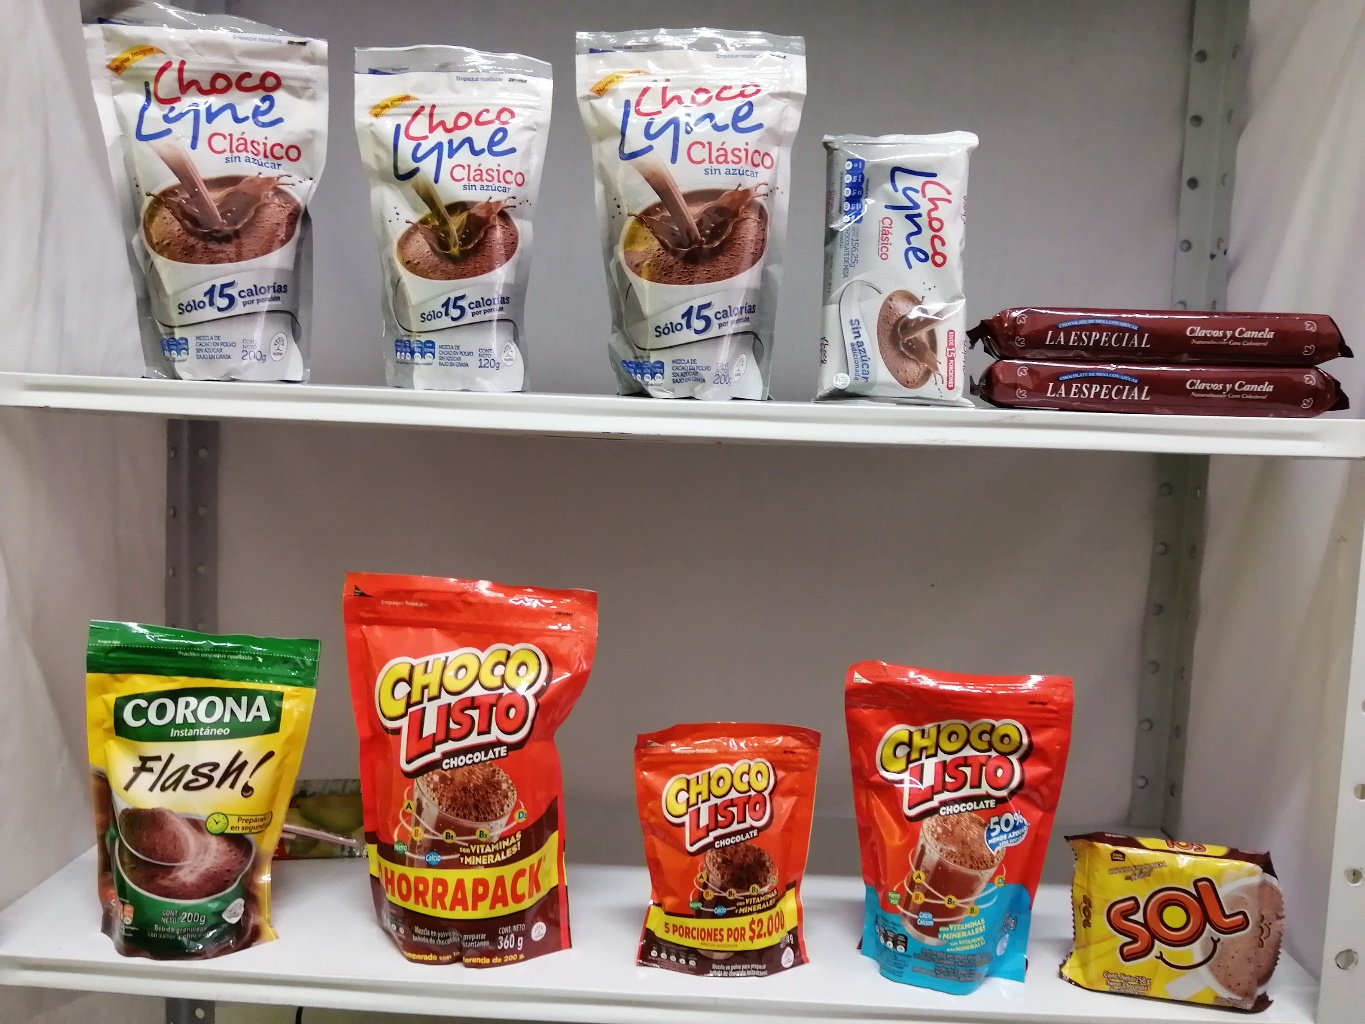COL0170103DYP36000: (318, 557, 630, 977)
COL0170104DYP20000: (830, 645, 1072, 994)
